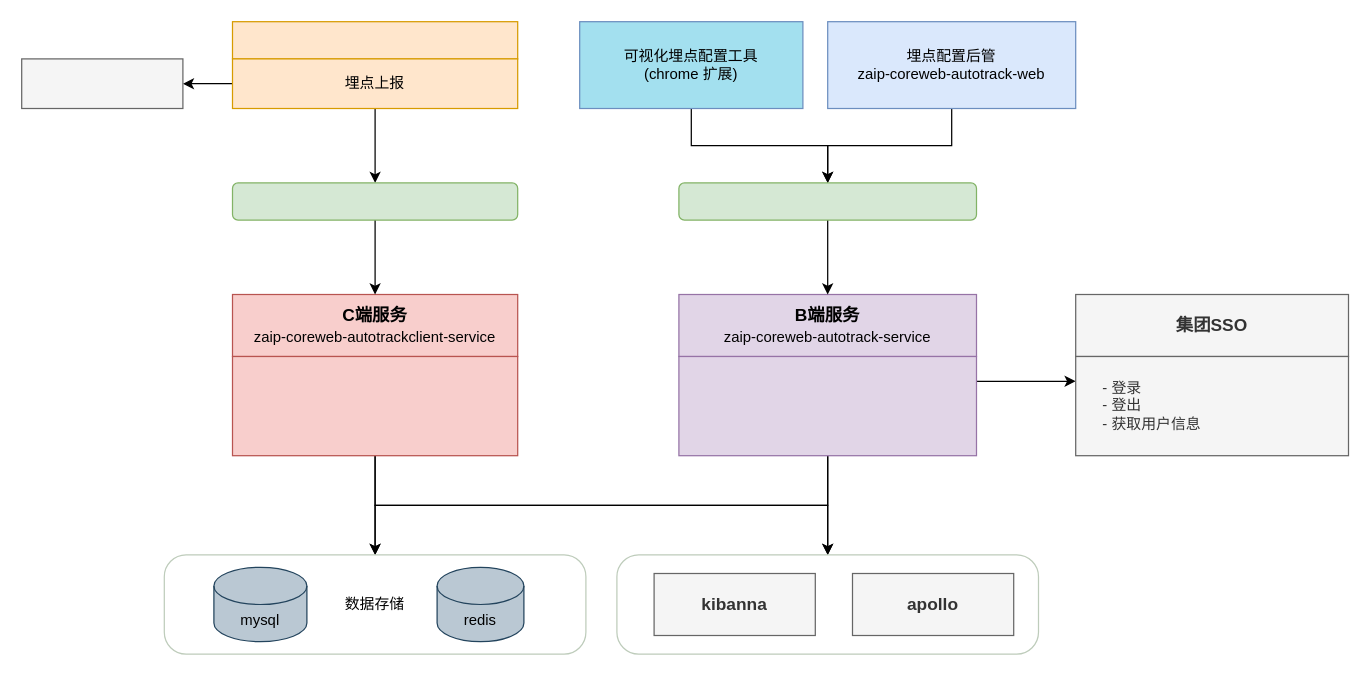
The diagram is 1370 pixels wide and 676 high, and some of its shapes have lost their labels. Each missing label, with the centre of its shape:
"- 项目管理服务 - 埋点配置服务 - 权限管理服务 - 发布管理服务" goes at point (827, 405).
"B端 nginx" goes at point (827, 201).
"C端 nginx" goes at point (374, 201).
"web js sdk" goes at point (374, 39).
"xman" goes at point (101, 83).
"查询项目埋点配置" goes at point (374, 405).
